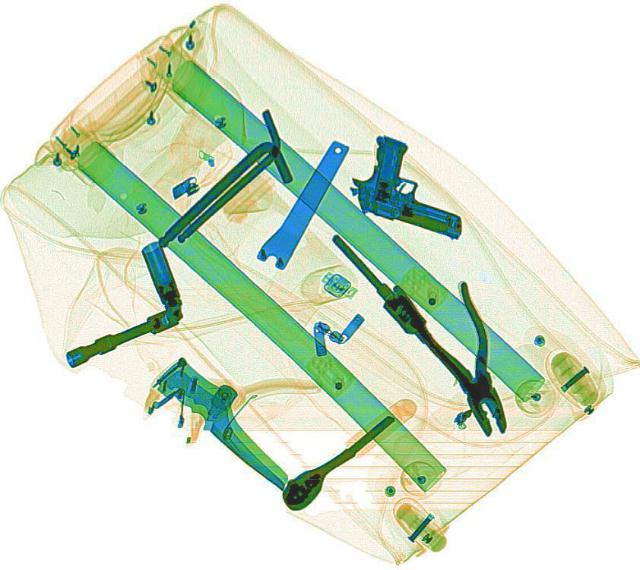Gun: (335, 130, 491, 241)
Pliers: (389, 263, 525, 440)
